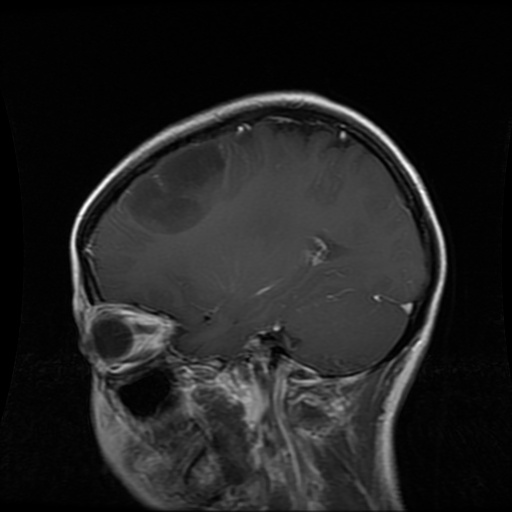glioma: (124, 142, 226, 235)
